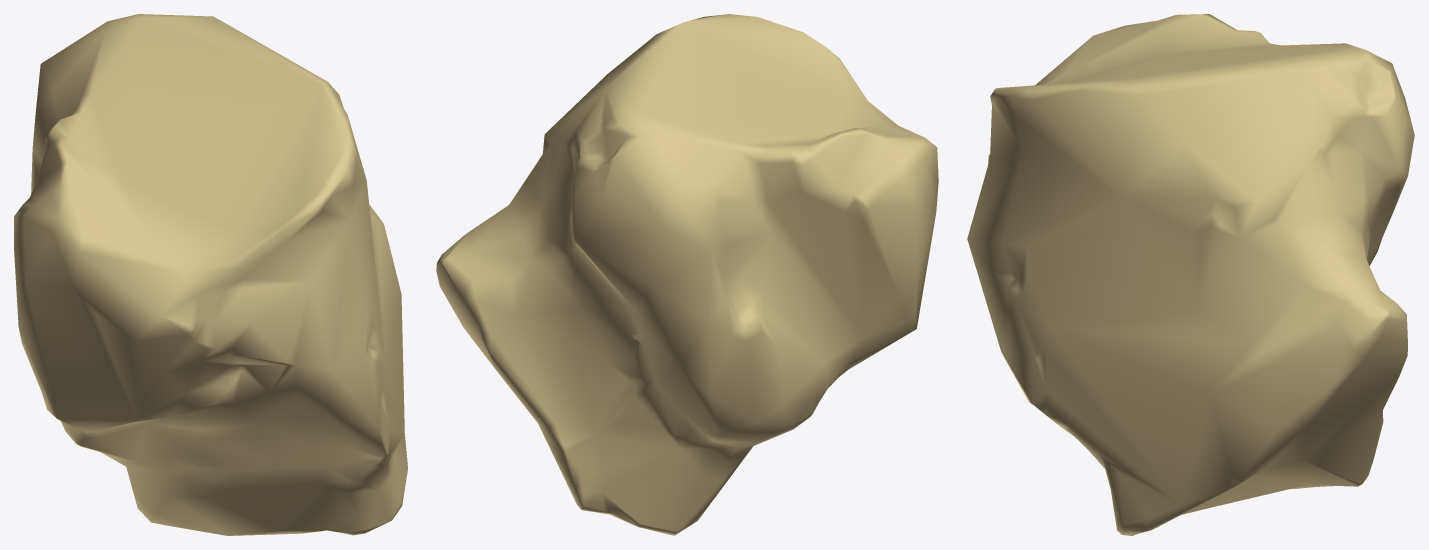
3 views of the same model, side by side, from view 1: azimuth 30°, elevation 25°; view 2: azimuth 150°, elevation 25°; view 3: azimuth 270°, elevation 25° (orthographic). The views are drawn at different scales.
Parts seen in each view (by area): view 1: 左侧骰骨; view 2: 左侧骰骨; view 3: 左侧骰骨.
Boxes of the visible parts, x1,y1,x2,y2 form: 左侧骰骨: [14, 14, 407, 535]; 左侧骰骨: [436, 14, 938, 535]; 左侧骰骨: [967, 14, 1414, 535].
Bounding box in the file's own units: 0.0475 × 0.0504 × 0.0455.
